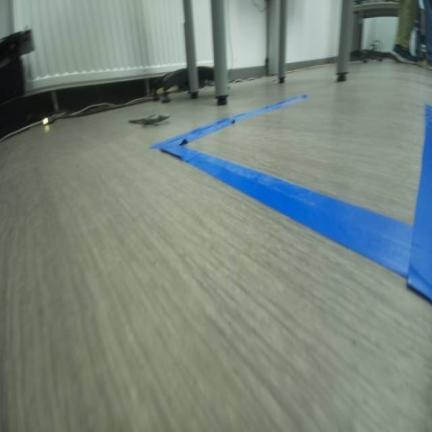place: (151, 92, 431, 299)
